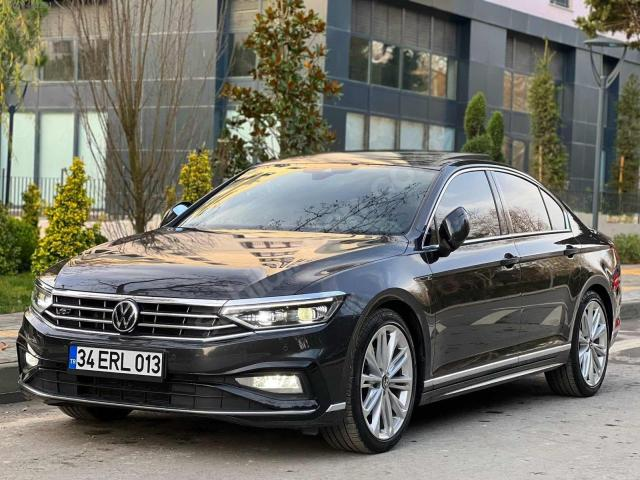plaka: (69, 346, 164, 378)
